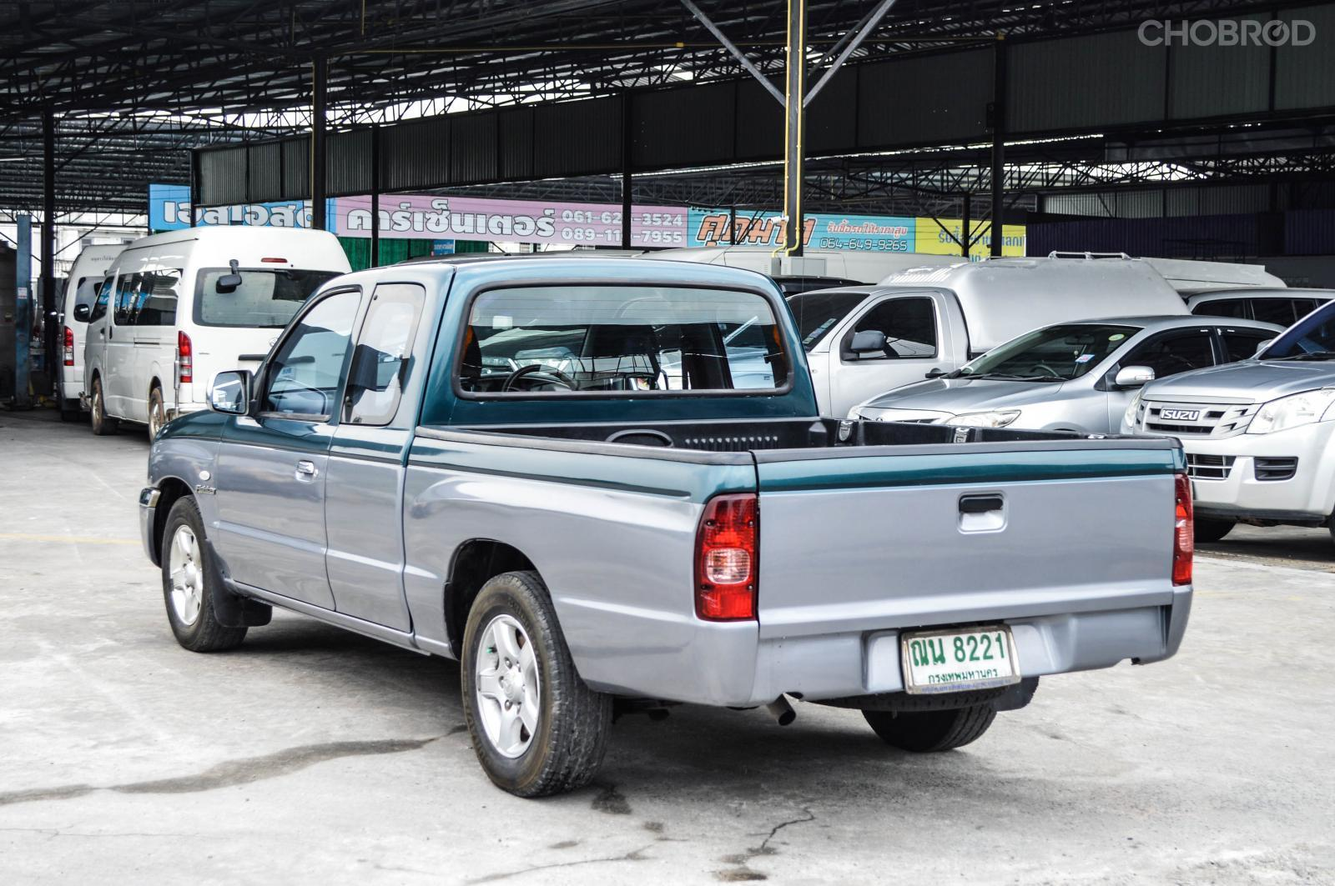license-plate: (897, 622, 1022, 695)
